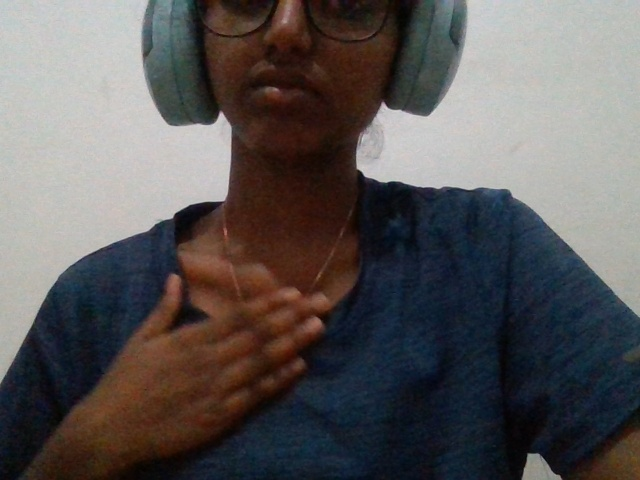Please: (42, 264, 345, 467)
